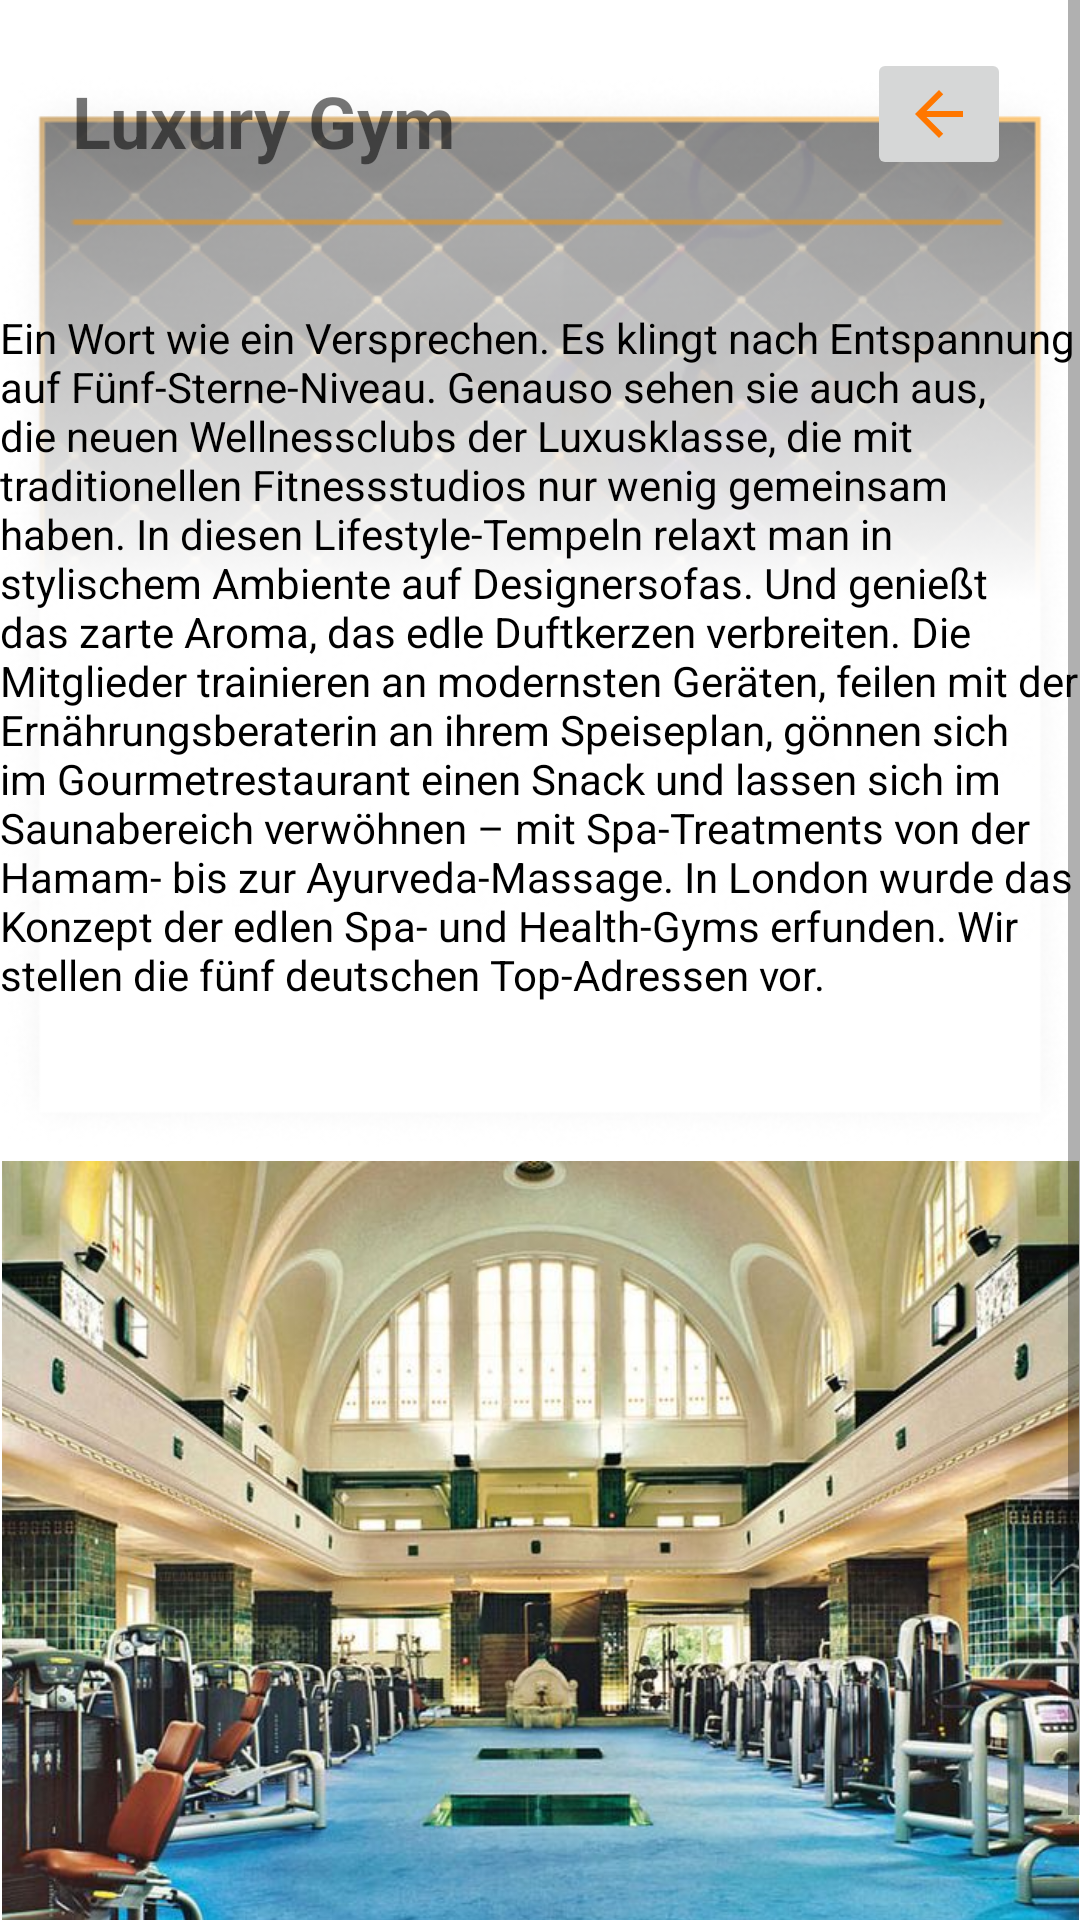

Icons on this 1080 x 1920 Android screen, each with the point to tap as [x,y]:
arrow back: [939,114]
